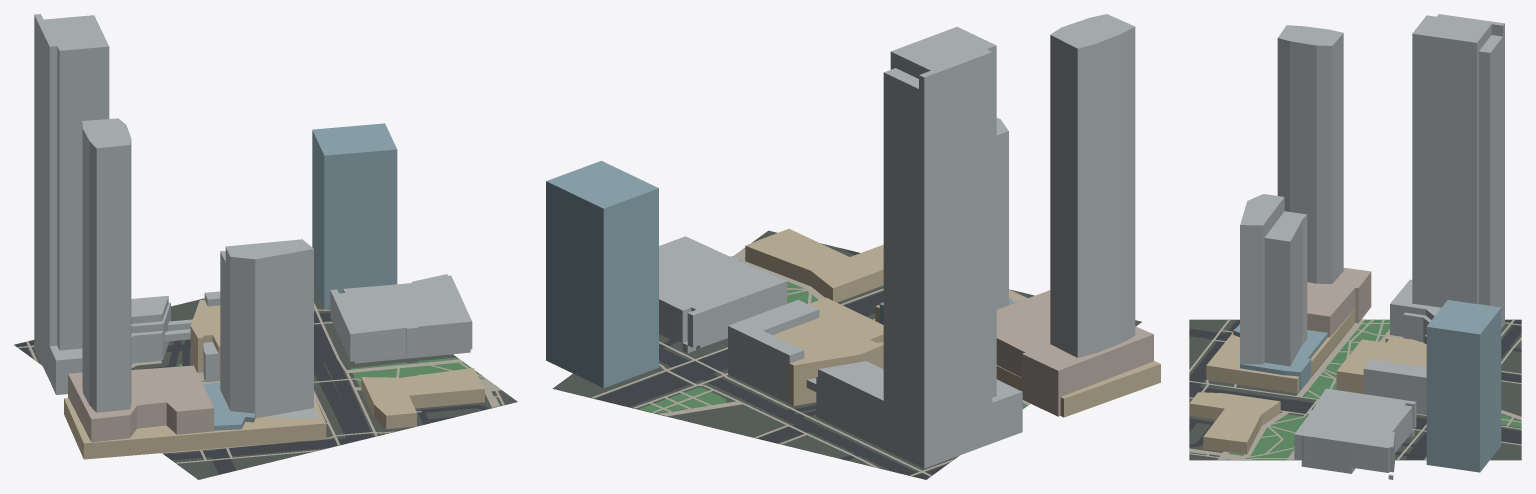
Rendered from tile_003_007.glb.
3 views of the same model, side by side, from view 1: azimuth 30°, elevation 25°; view 2: azimuth 150°, elevation 25°; view 3: azimuth 270°, elevation 25° (orthographic). The views are drawn at different scales.
Parts seen in each view (by area): view 1: tile_003_007_buildings_neutral, tile_003_007_buildings_office, tile_003_007_buildings_detailed_bgc_building_0014, tile_003_007_buildings_retail, tile_003_007_buildings_residential, tile_003_007_ground, tile_003_007_roads, tile_003_007_buildings_detailed_bgc_building_0011, tile_003_007_paths, tile_003_007_open_spaces; view 2: tile_003_007_buildings_neutral, tile_003_007_buildings_office, tile_003_007_buildings_detailed_bgc_building_0014, tile_003_007_buildings_residential, tile_003_007_buildings_retail, tile_003_007_ground, tile_003_007_roads, tile_003_007_buildings_detailed_bgc_building_0011, tile_003_007_paths, tile_003_007_open_spaces; view 3: tile_003_007_buildings_neutral, tile_003_007_buildings_office, tile_003_007_buildings_detailed_bgc_building_0014, tile_003_007_buildings_retail, tile_003_007_ground, tile_003_007_buildings_detailed_bgc_building_0011, tile_003_007_paths, tile_003_007_roads, tile_003_007_buildings_residential, tile_003_007_open_spaces.
Part boxes in pixels (<box>): tile_003_007_buildings_neutral: <box>34,14,318,418</box>; tile_003_007_buildings_office: <box>203,123,397,430</box>; tile_003_007_buildings_detailed_bgc_building_0014: <box>330,274,472,363</box>; tile_003_007_buildings_retail: <box>64,299,326,459</box>; tile_003_007_buildings_residential: <box>68,365,214,442</box>; tile_003_007_ground: <box>14,287,517,479</box>; tile_003_007_roads: <box>14,311,488,474</box>; tile_003_007_buildings_detailed_bgc_building_0011: <box>361,368,484,429</box>; tile_003_007_paths: <box>18,303,504,463</box>; tile_003_007_open_spaces: <box>178,357,496,456</box>; tile_003_007_buildings_neutral: <box>728,14,1135,468</box>; tile_003_007_buildings_office: <box>546,160,1019,387</box>; tile_003_007_buildings_detailed_bgc_building_0014: <box>659,236,787,353</box>; tile_003_007_buildings_residential: <box>996,290,1153,416</box>; tile_003_007_buildings_retail: <box>773,290,1160,417</box>; tile_003_007_ground: <box>552,230,1141,479</box>; tile_003_007_roads: <box>595,248,946,479</box>; tile_003_007_buildings_detailed_bgc_building_0011: <box>745,228,883,302</box>; tile_003_007_paths: <box>591,247,1029,476</box>; tile_003_007_open_spaces: <box>638,248,1029,413</box>; tile_003_007_buildings_neutral: <box>1235,14,1504,414</box>; tile_003_007_buildings_office: <box>1233,300,1501,472</box>; tile_003_007_buildings_detailed_bgc_building_0014: <box>1294,388,1416,479</box>; tile_003_007_buildings_retail: <box>1206,309,1426,393</box>; tile_003_007_ground: <box>1189,319,1521,460</box>; tile_003_007_buildings_detailed_bgc_building_0011: <box>1189,392,1280,454</box>; tile_003_007_paths: <box>1189,319,1521,459</box>; tile_003_007_roads: <box>1189,319,1521,459</box>; tile_003_007_buildings_residential: <box>1307,267,1371,337</box>; tile_003_007_open_spaces: <box>1189,319,1521,459</box>.
Size of the model in its own units: 337 by 250 by 250.
